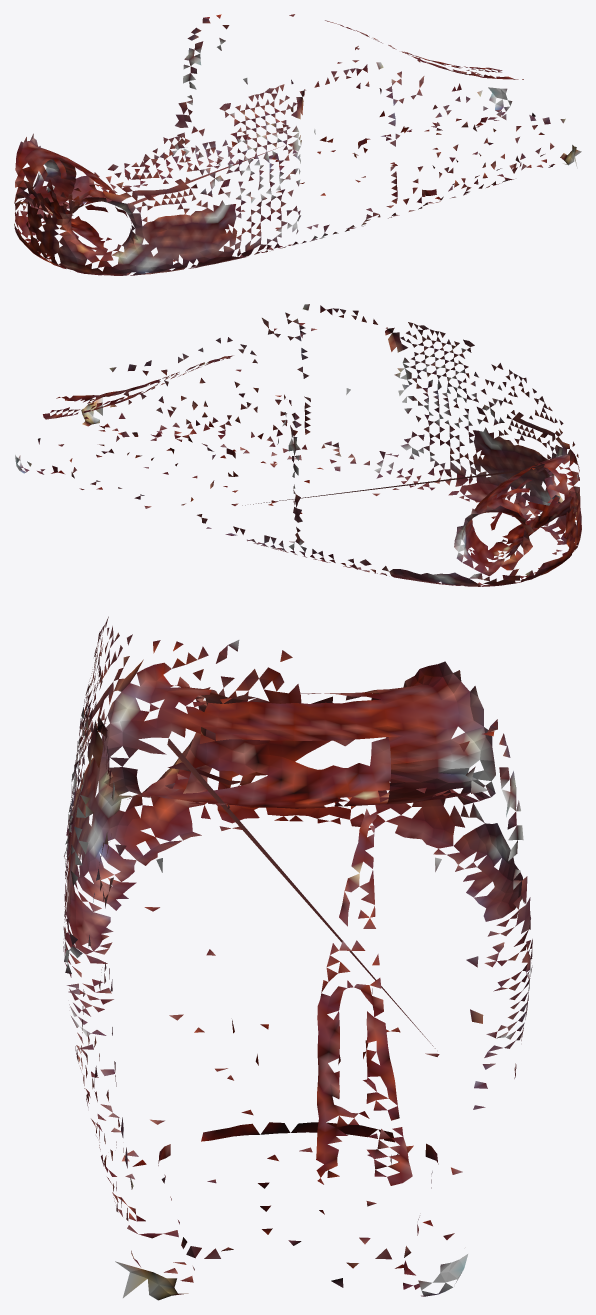
File: whistle_final800.obj
The picture shows the model from 3 angles, top to bottom: view 1: azimuth 30°, elevation 25°; view 2: azimuth 150°, elevation 25°; view 3: azimuth 270°, elevation 25°; orthographic projection. The views are drawn at different scales.
Size of the model in its own units: 1.93 by 0.5877 by 0.7611.
